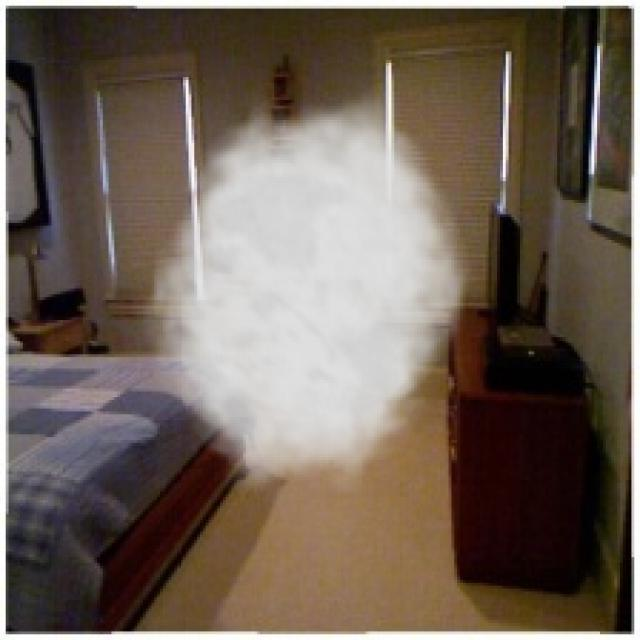Smoke: (134, 82, 477, 494)
